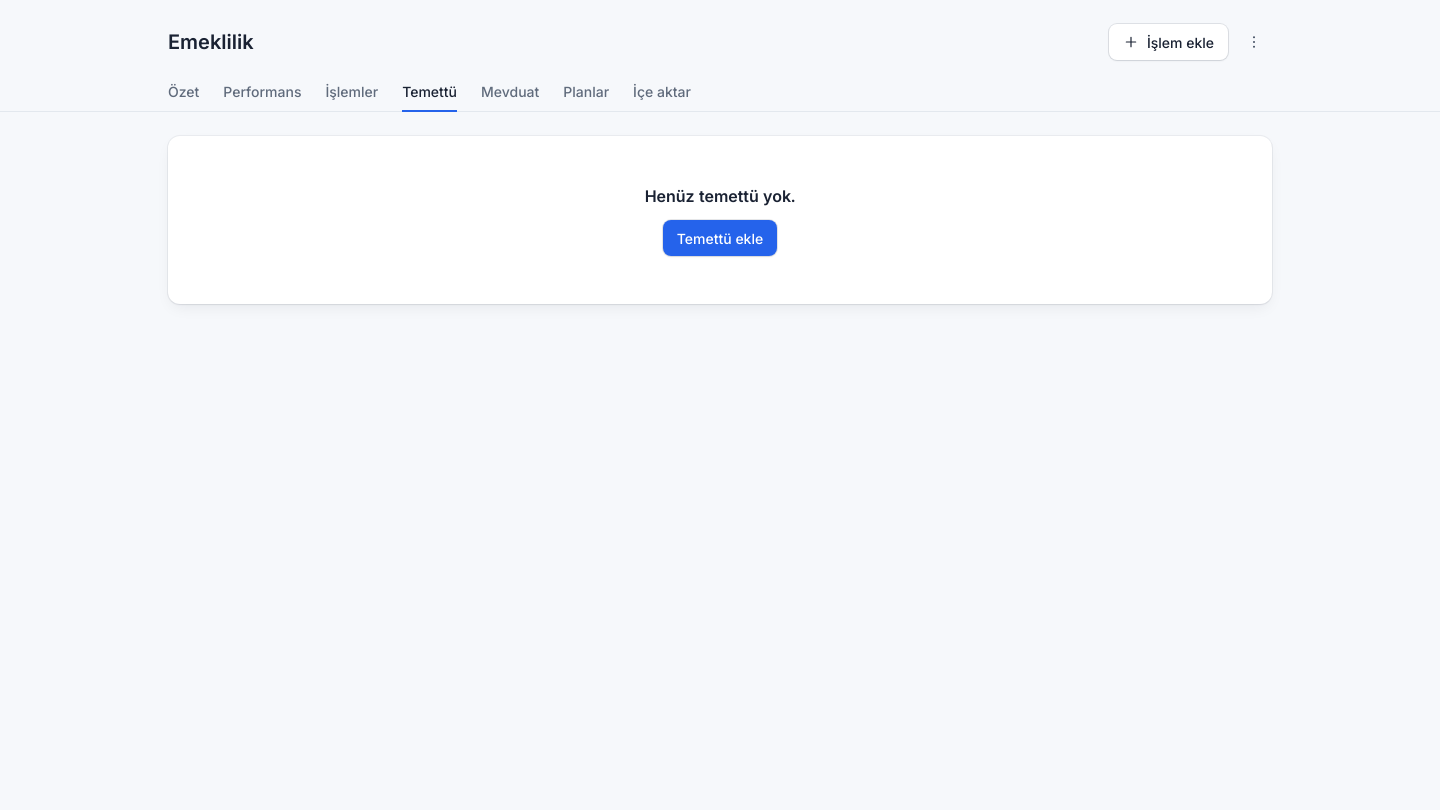
Scenario: shows an empty state card with an action to add a dividend
Click the button "Temettü ekle".
click(720, 238)  # box [663,220,777,256]
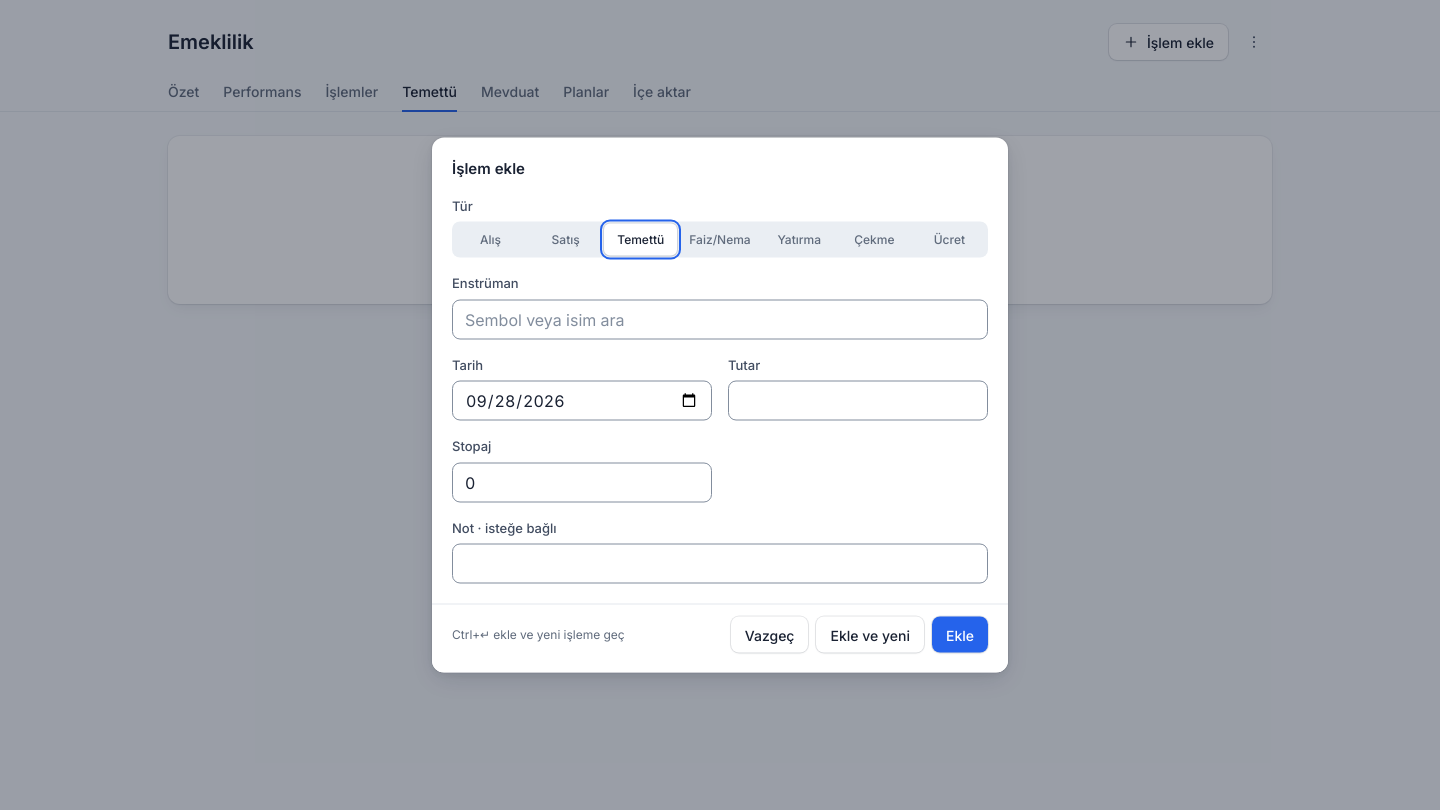
Expected: the dialog is shown, [432,138,1008,672]
